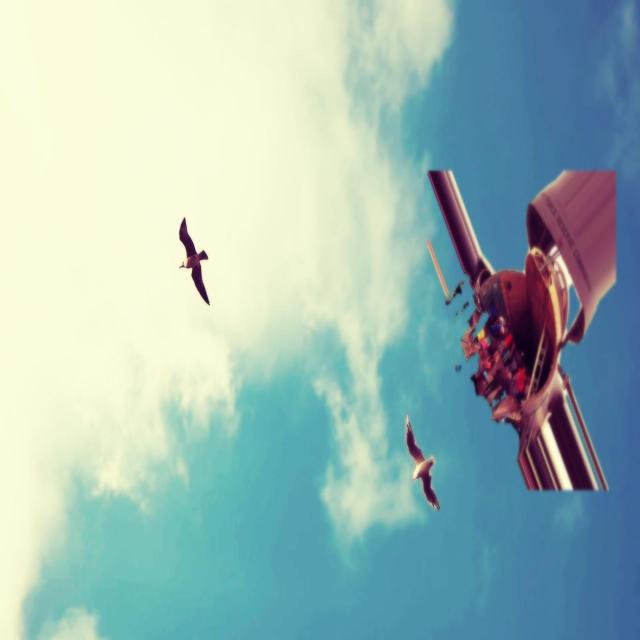airplane: (426, 166, 616, 492)
